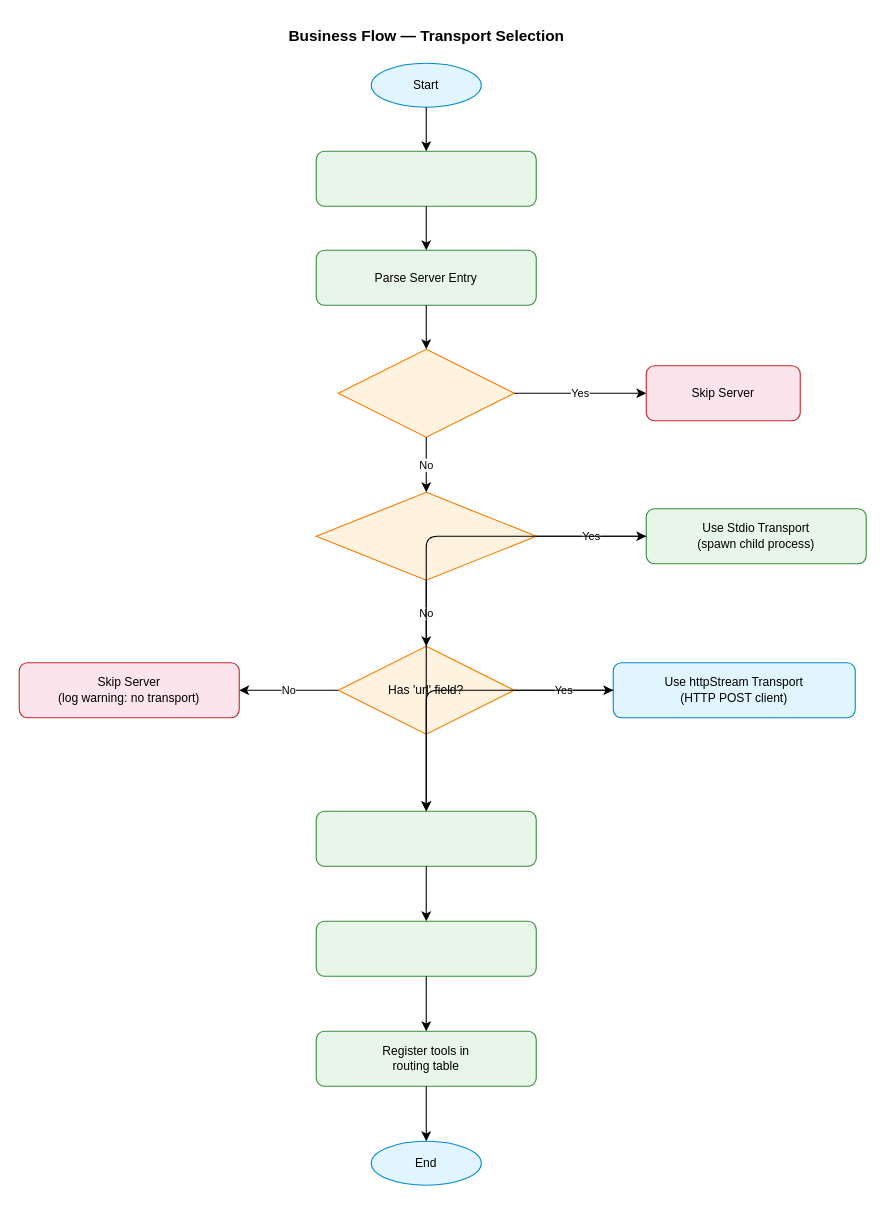
Some shapes in this 886 by 1205 pixel diagram are drawn without their labels. Each missing label, with the centre of its shape:
disabled: true?: point (425, 392)
Has 'command' field?: point (425, 535)
Read orchestration.json: point (425, 178)
Send 'initialize' request: point (425, 838)
Send 'tools/list' request: point (425, 948)
